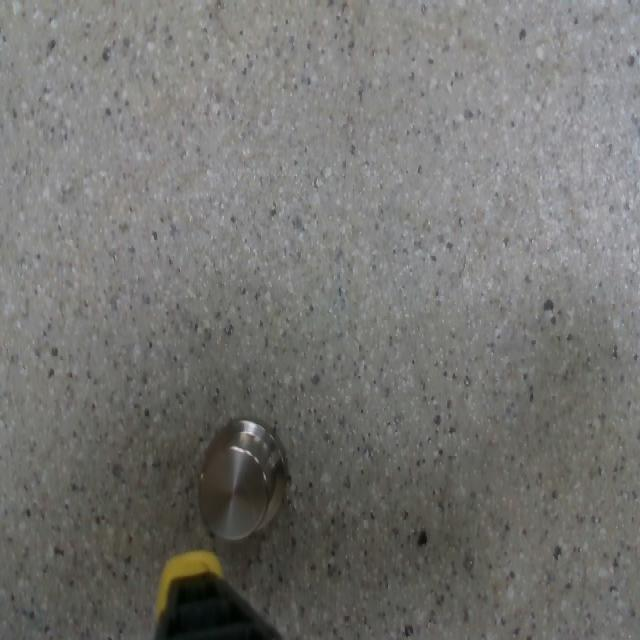sensor: (197, 416, 291, 542)
